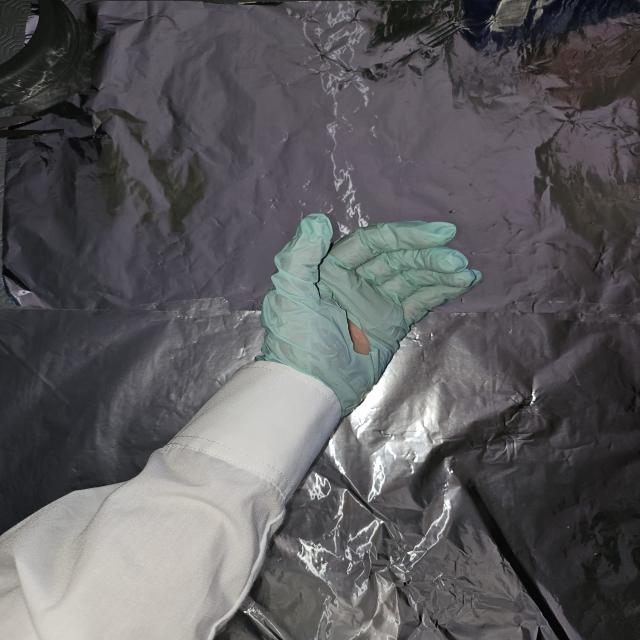gloves_damaged: (259, 210, 486, 421)
